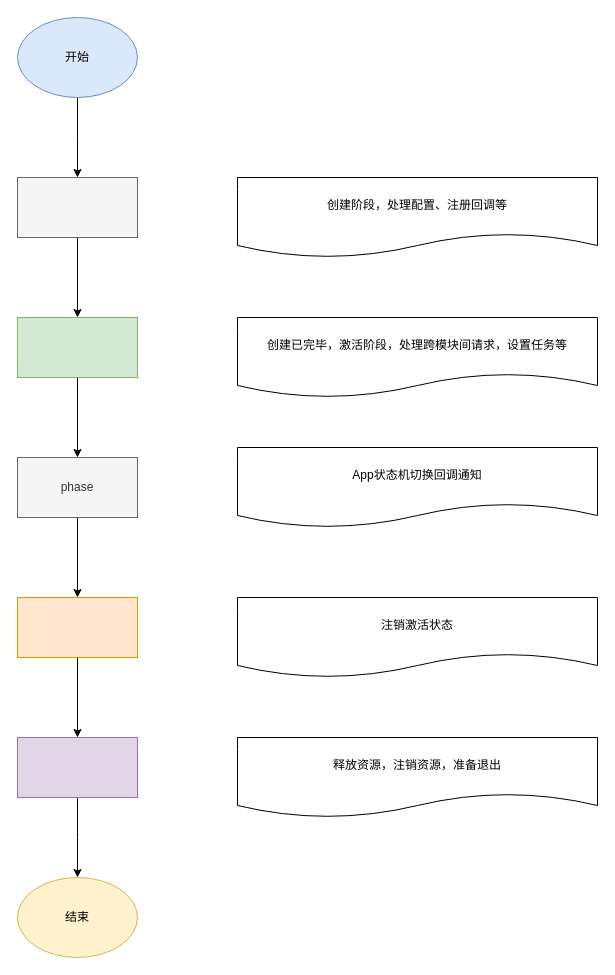
Image size: 615x975. Some labels were removed from this diagram. The shapes that lost their labels are listed below. From the top down, each one's centre as x and y in pixels, then its label:
pixel 77 207: init
pixel 77 347: active
pixel 77 627: deactive
pixel 77 767: destroy
